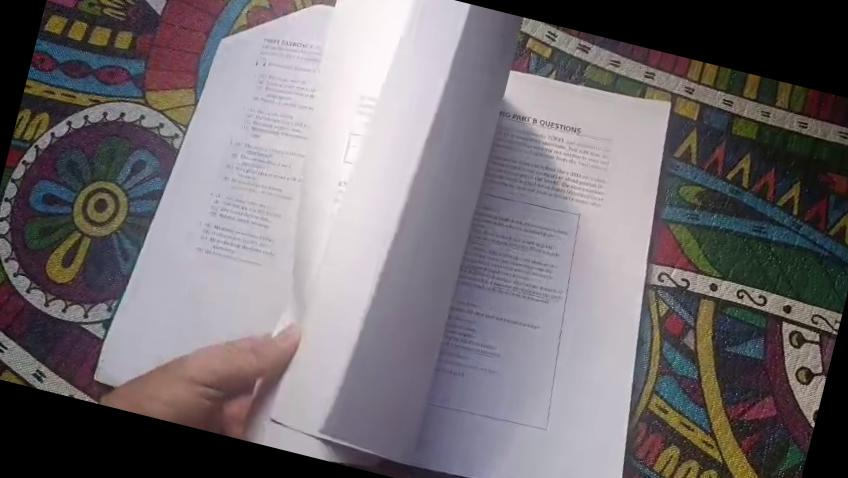Kertas: (278, 9, 703, 478), (107, 0, 496, 464)
